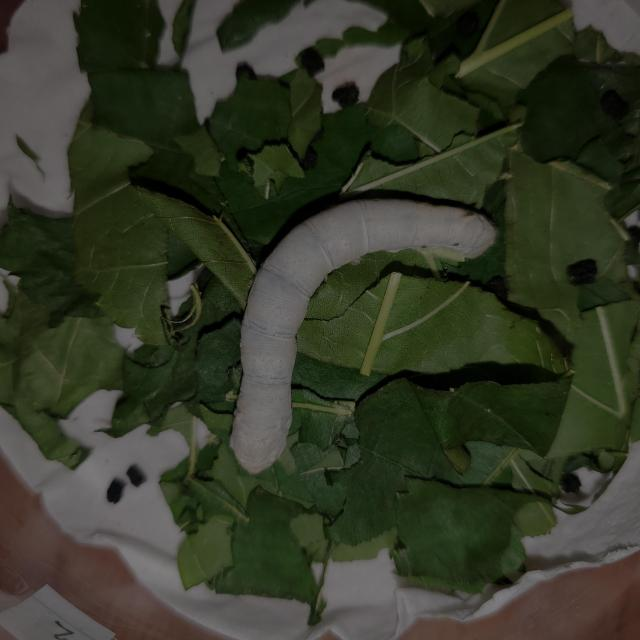Healthy: (221, 186, 502, 477)
